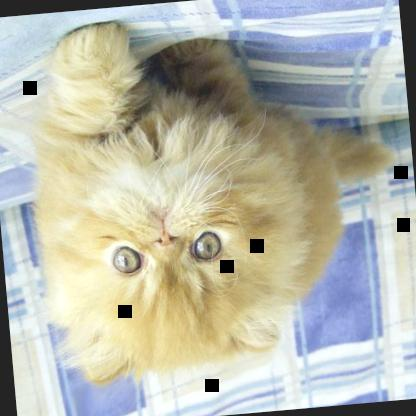cat: (19, 0, 412, 391)
